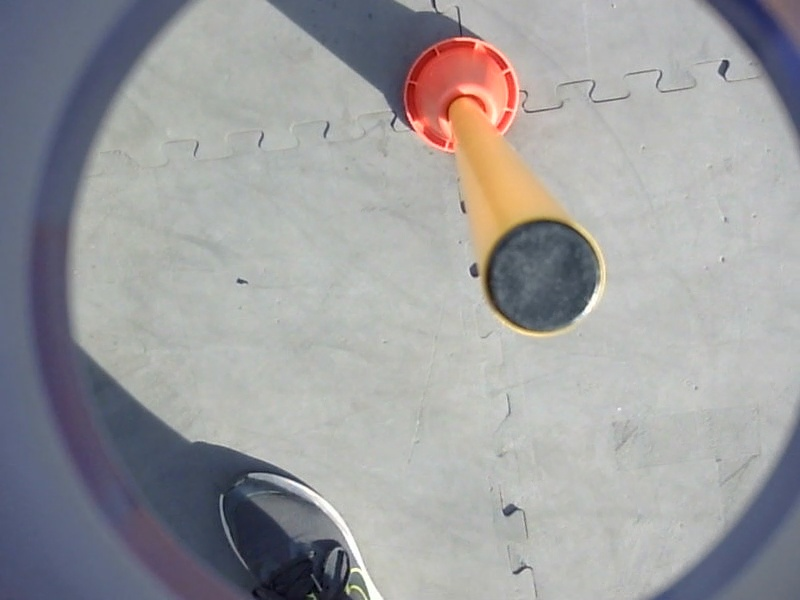tip: (478, 211, 611, 344)
